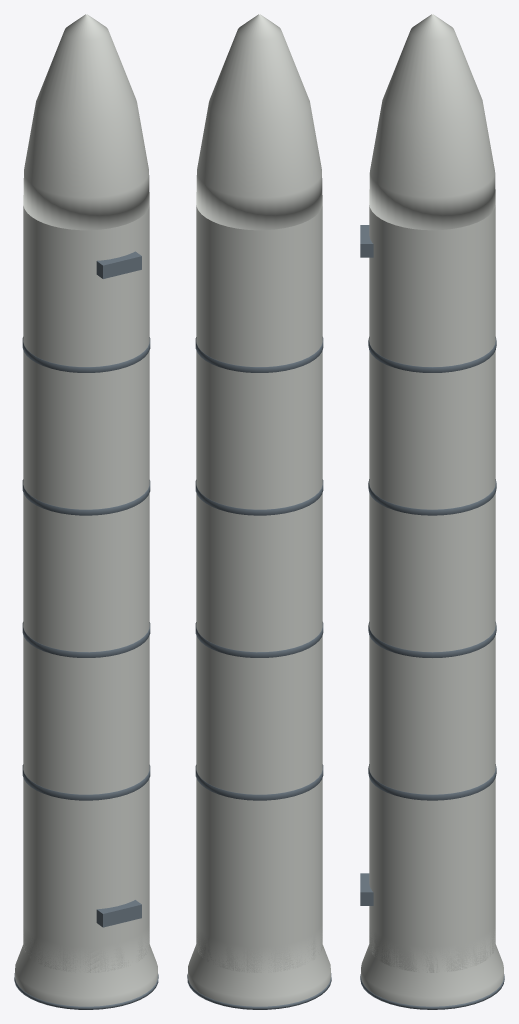
Rendered from titan_srb_l.glb.
3 renders of one model, left to right at view 1: azimuth 30°, elevation 25°; view 2: azimuth 150°, elevation 25°; view 3: azimuth 270°, elevation 25°, orthographic.
Visible parts, largest first — view 1: titan_srb_l.mesh_Pale_thermal_blanket, titan_srb_l.nose.mesh_Pale_thermal_blanket, titan_srb_l.aft_skirt.mesh_Pale_thermal_blanket, titan_srb_l.mesh_Machined_steel, titan_srb_l.aft_skirt.mesh_Machined_steel; view 2: titan_srb_l.mesh_Pale_thermal_blanket, titan_srb_l.nose.mesh_Pale_thermal_blanket, titan_srb_l.aft_skirt.mesh_Pale_thermal_blanket, titan_srb_l.mesh_Machined_steel, titan_srb_l.aft_skirt.mesh_Machined_steel; view 3: titan_srb_l.mesh_Pale_thermal_blanket, titan_srb_l.nose.mesh_Pale_thermal_blanket, titan_srb_l.aft_skirt.mesh_Pale_thermal_blanket, titan_srb_l.mesh_Machined_steel, titan_srb_l.aft_skirt.mesh_Machined_steel.
Part boxes in pixels (x1,y1,x2,y2): titan_srb_l.mesh_Pale_thermal_blanket: (23, 205, 149, 972); titan_srb_l.nose.mesh_Pale_thermal_blanket: (23, 14, 149, 230); titan_srb_l.aft_skirt.mesh_Pale_thermal_blanket: (15, 922, 157, 1006); titan_srb_l.mesh_Machined_steel: (22, 251, 150, 927); titan_srb_l.aft_skirt.mesh_Machined_steel: (14, 973, 158, 1009); titan_srb_l.mesh_Pale_thermal_blanket: (196, 205, 322, 972); titan_srb_l.nose.mesh_Pale_thermal_blanket: (196, 14, 322, 230); titan_srb_l.aft_skirt.mesh_Pale_thermal_blanket: (188, 922, 330, 1006); titan_srb_l.mesh_Machined_steel: (195, 337, 323, 800); titan_srb_l.aft_skirt.mesh_Machined_steel: (187, 973, 331, 1009); titan_srb_l.mesh_Pale_thermal_blanket: (369, 205, 495, 972); titan_srb_l.nose.mesh_Pale_thermal_blanket: (369, 14, 495, 230); titan_srb_l.aft_skirt.mesh_Pale_thermal_blanket: (361, 921, 503, 1006); titan_srb_l.mesh_Machined_steel: (360, 225, 496, 905); titan_srb_l.aft_skirt.mesh_Machined_steel: (360, 974, 504, 1009).
Bounding box in the file's own units: 3.47 × 25.9 × 3.47.
